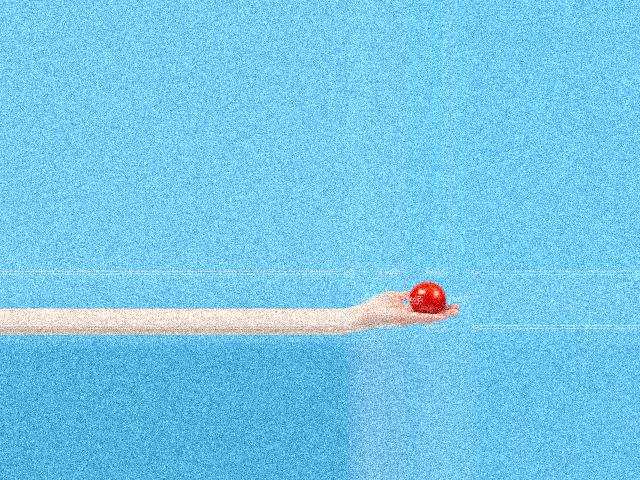tomato: (409, 282, 445, 313)
